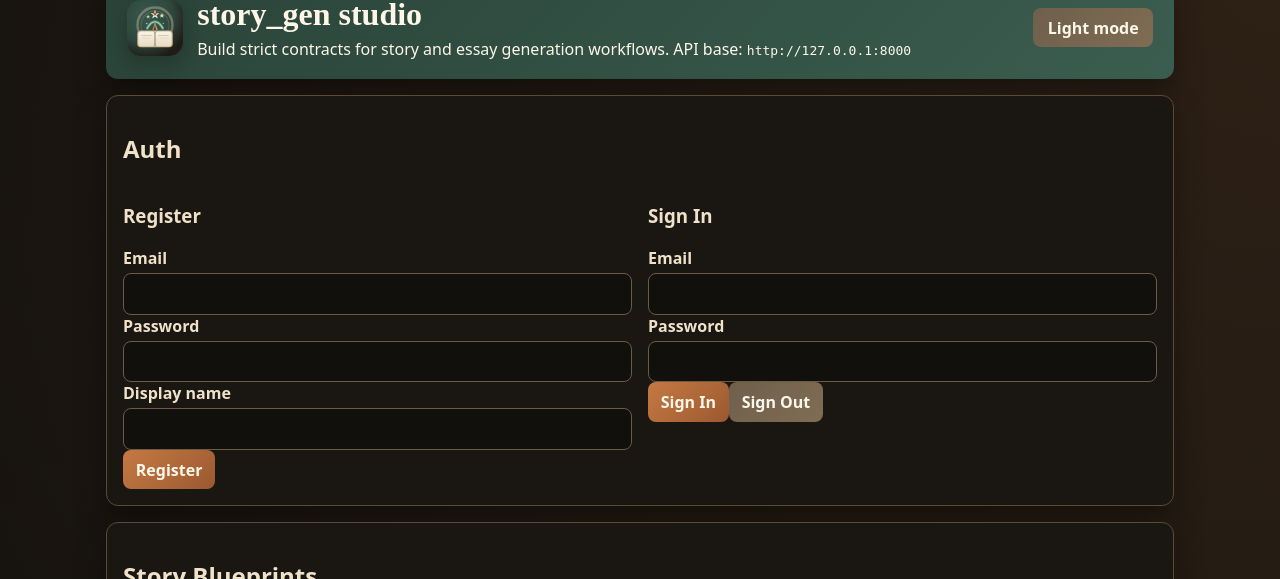
Test case: App › updates an existing story after selection
In the 2nd field labelled "Email": (902, 294) [648, 273, 1157, 315], type "writer@example.com"
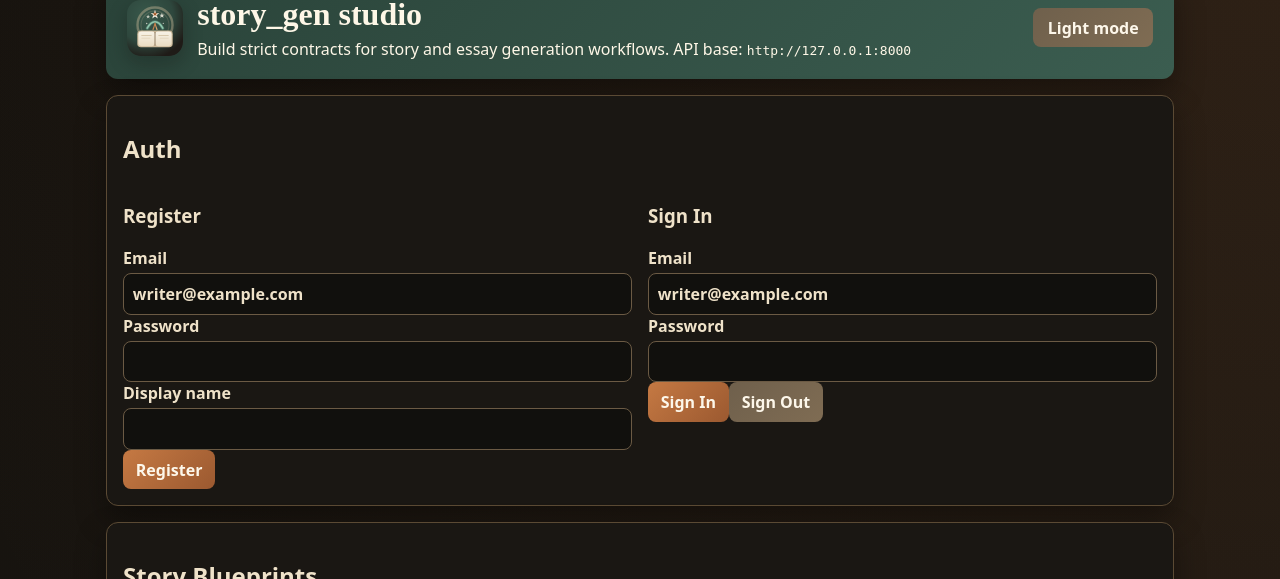
In the 2nd password field labelled "Password": (902, 361) [648, 341, 1157, 382], type "secret123"
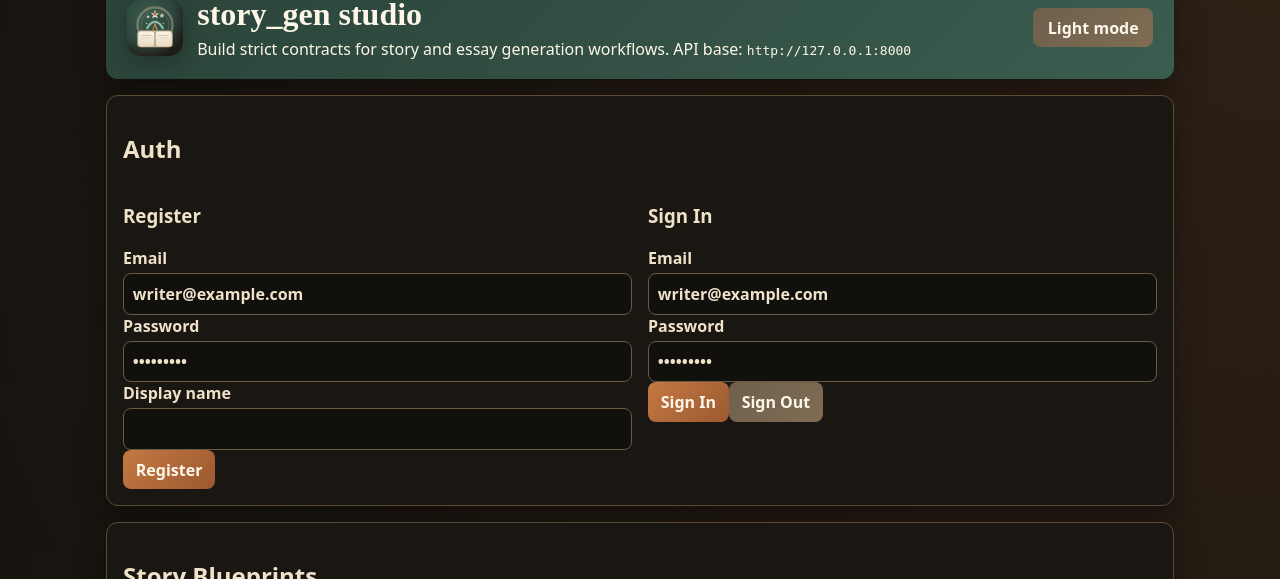
Click the button "Sign In": click(688, 402) [648, 382, 729, 422]
(page scrolled)
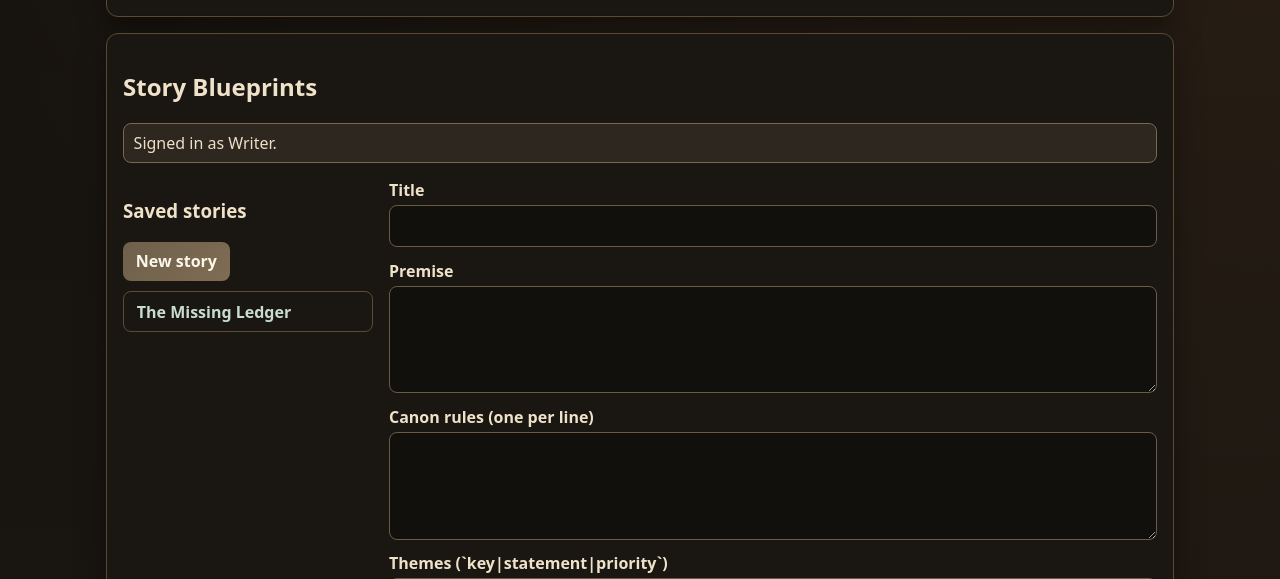
Expected: the button "The Missing Ledger" is shown
Click the button "The Missing Ledger": click(248, 312) [123, 291, 373, 332]
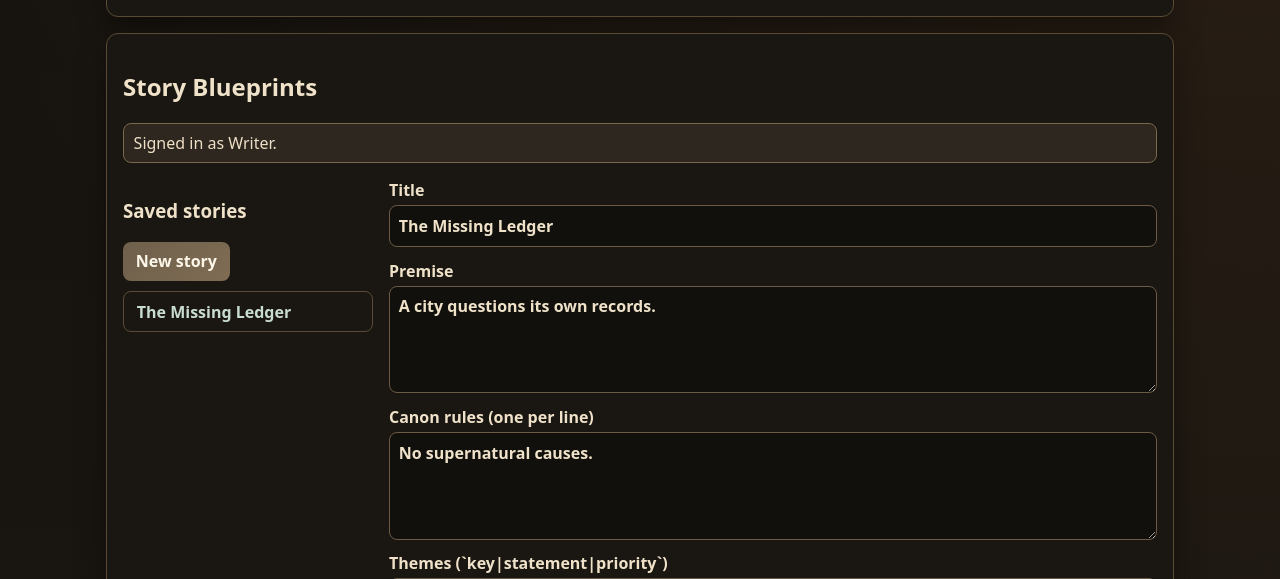
Replace the text in the field labelled "Title" with "The Missing Ledger Revised": (773, 226) [389, 205, 1157, 247]
(page scrolled)
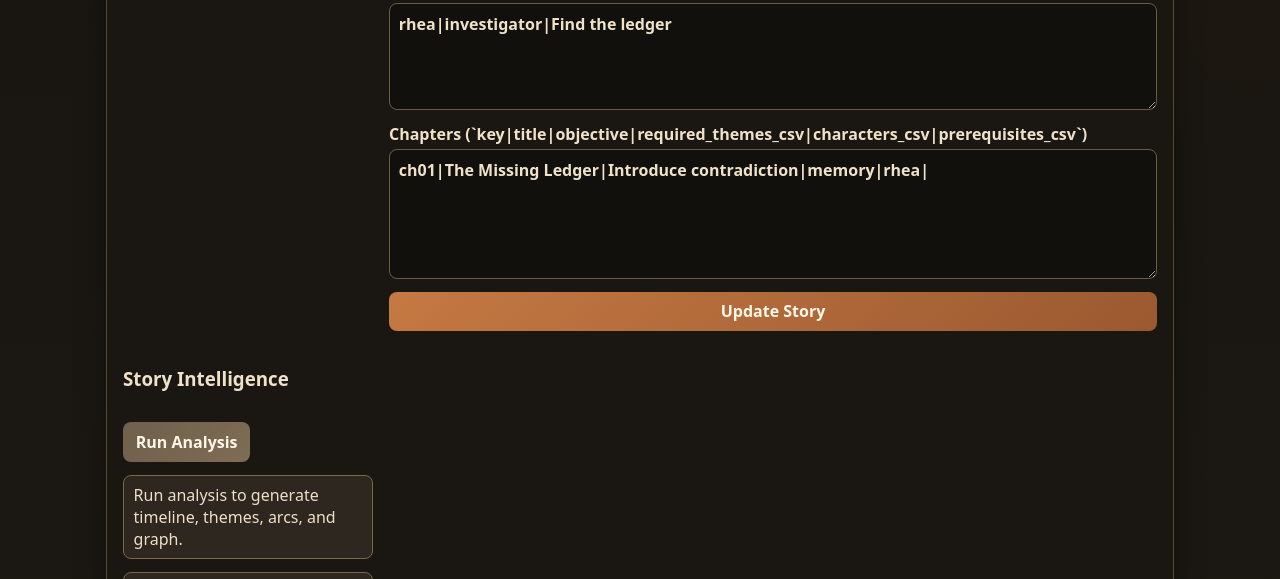
Click the button "Update Story": click(773, 311) [389, 292, 1157, 331]
(page scrolled)
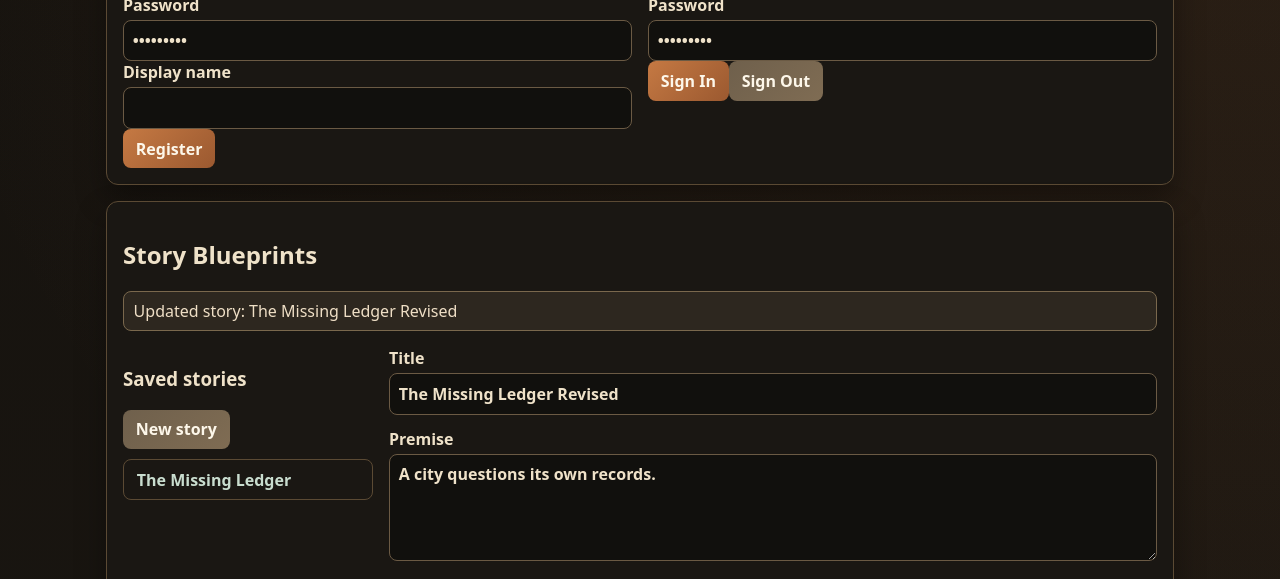
Expected: the text "Updated story: The Missing Ledger Revised" is shown, [123, 291, 1157, 331]
